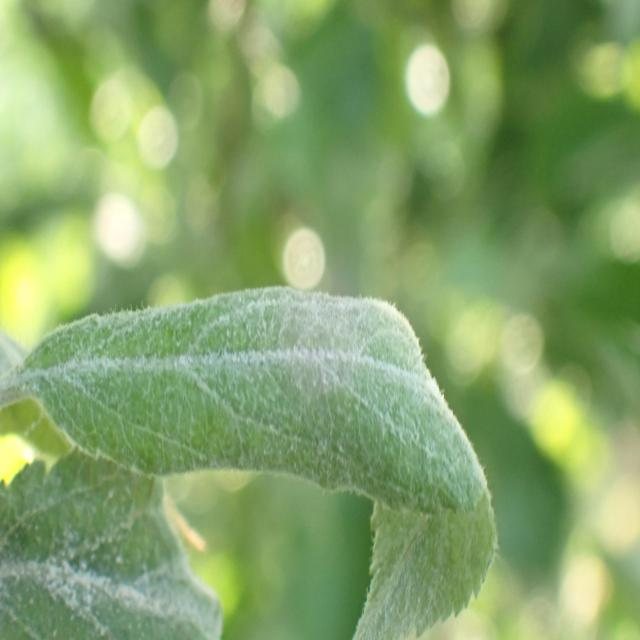Powdery_mildew: (0, 271, 497, 640), (0, 436, 248, 640)
